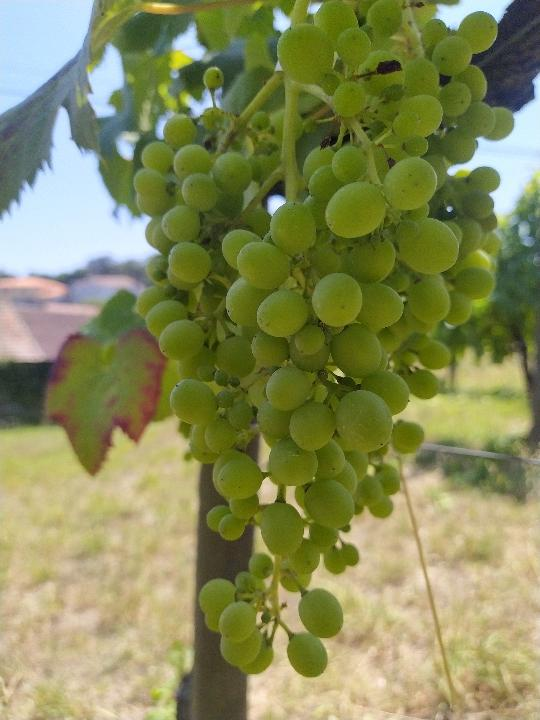grape: (129, 4, 516, 680)
